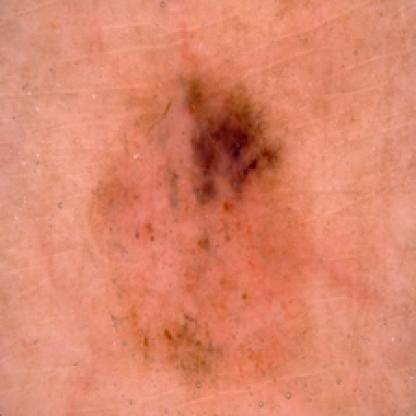Skin_Cancer-Malignant: (178, 67, 286, 217)
